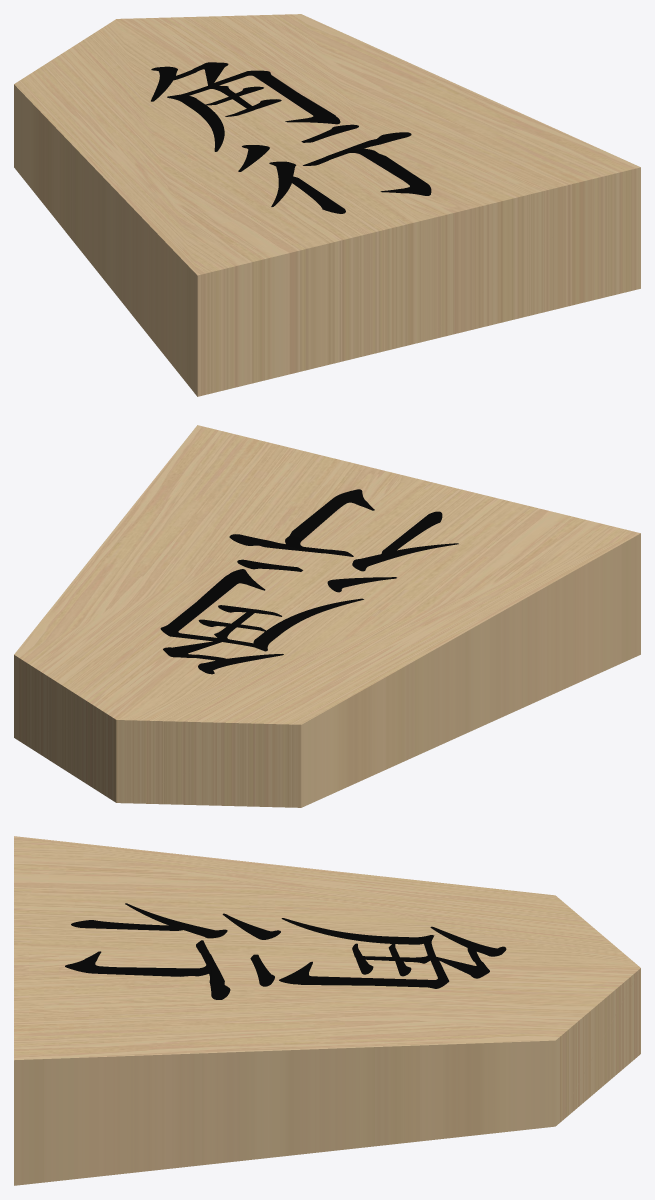
Rendered from kakugyo.fbx.
3 views of the same model, one above another, from view 1: azimuth 30°, elevation 25°; view 2: azimuth 150°, elevation 25°; view 3: azimuth 270°, elevation 25° (orthographic). The views are drawn at different scales.
Visible parts, largest first — view 1: kakugyo.001; view 2: kakugyo.001; view 3: kakugyo.001.
Part boxes in pixels (box(x1,y1,x2,y2)): kakugyo.001: box(14, 14, 640, 396); kakugyo.001: box(14, 425, 640, 807); kakugyo.001: box(14, 836, 640, 1185).
Bounding box in the file's own units: 437 × 114 × 517.
